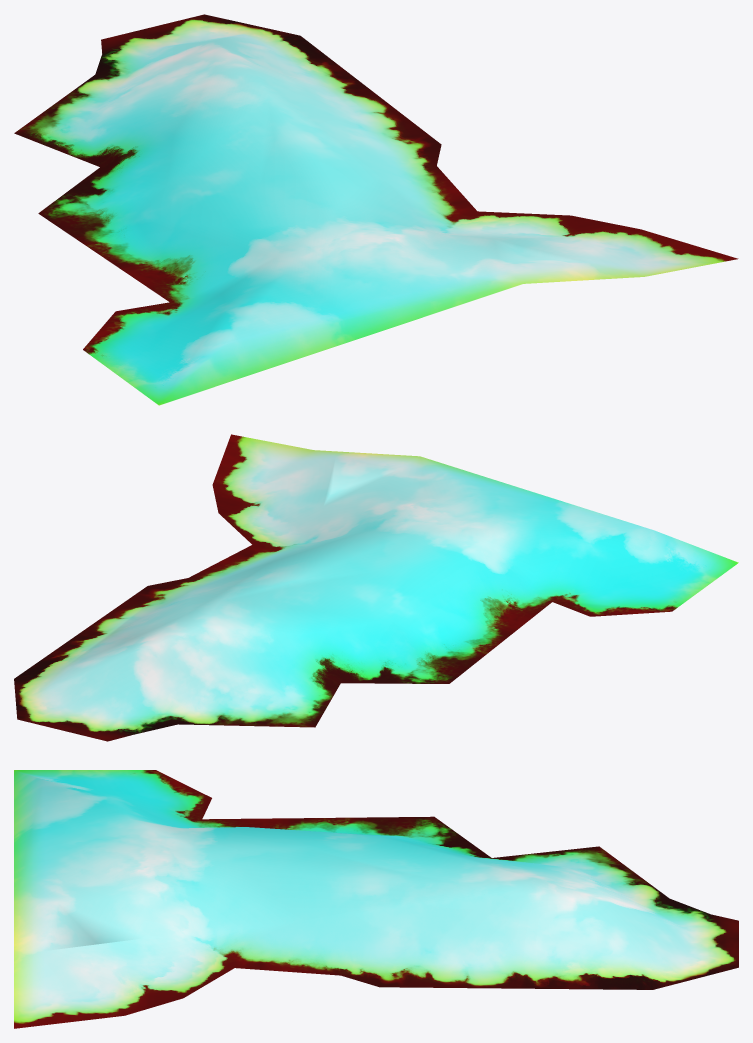
Rendered from Mesh_QuantumMetaCloud_14.FBX.
The picture shows the model from 3 angles, top to bottom: view 1: azimuth 30°, elevation 25°; view 2: azimuth 150°, elevation 25°; view 3: azimuth 270°, elevation 25°; orthographic projection. The views are drawn at different scales.
Visible parts, largest first — view 1: Mesh_QuantumMetaCloud_14; view 2: Mesh_QuantumMetaCloud_14; view 3: Mesh_QuantumMetaCloud_14.
Boxes of the visible parts, box(x1,y1,x2,y2) form: Mesh_QuantumMetaCloud_14: box(14, 14, 738, 405); Mesh_QuantumMetaCloud_14: box(14, 434, 738, 741); Mesh_QuantumMetaCloud_14: box(14, 770, 738, 1028).
Size of the model in its own units: 860 by 1000 by 67.08.
